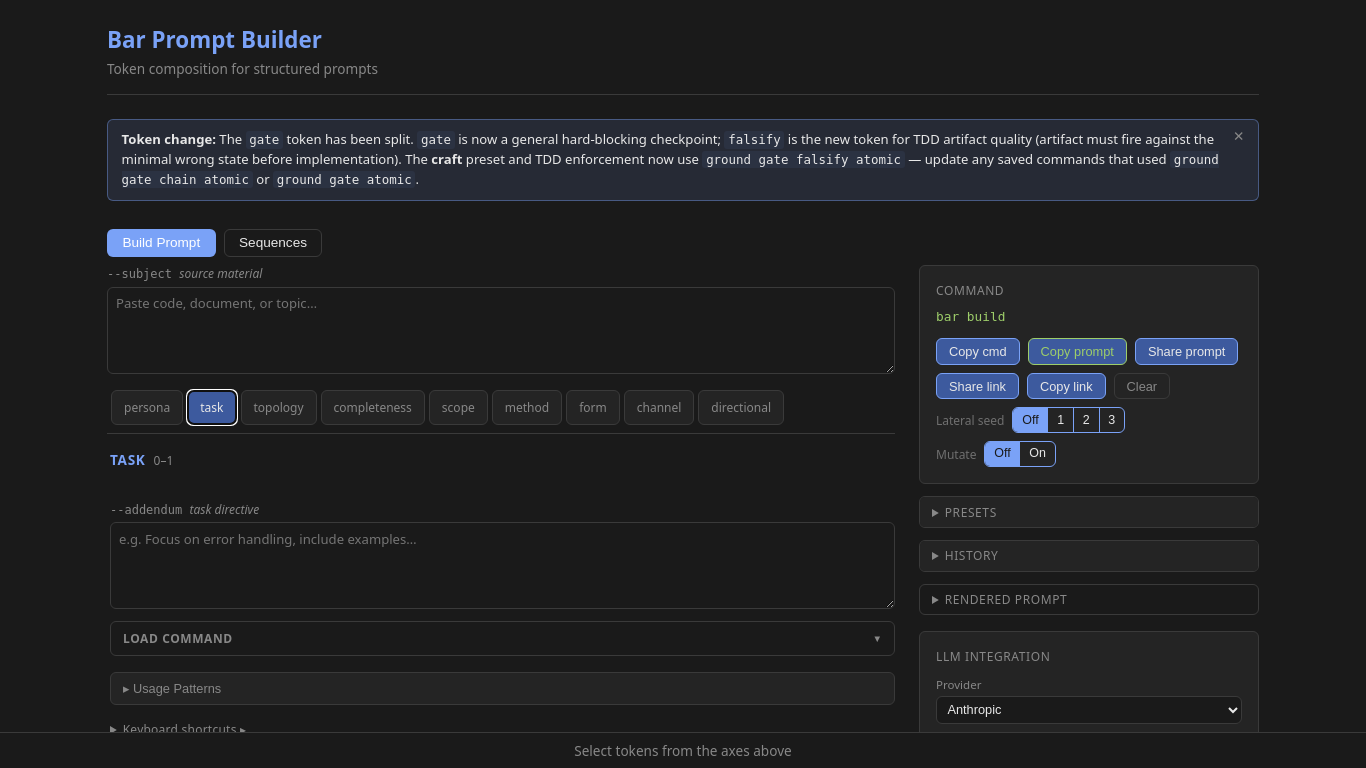
Scenario: ADR-0170: Persona chip grids › CG-2: override group has "or customize" label
Click the tab with class "tab" showing "persona" at [147, 407], box [111,390,183,425]
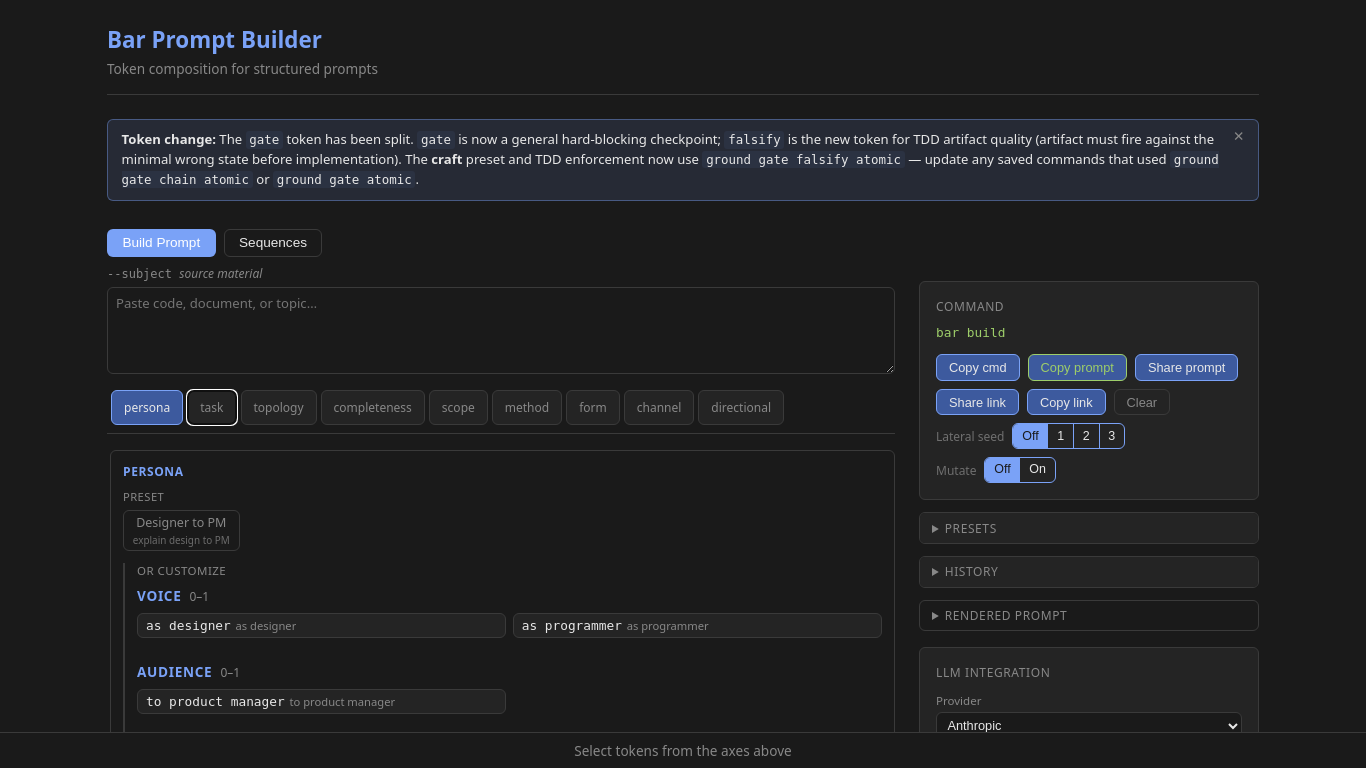
Check: the text with class "override-group-label" shows "customize", box [137,563,226,578]
